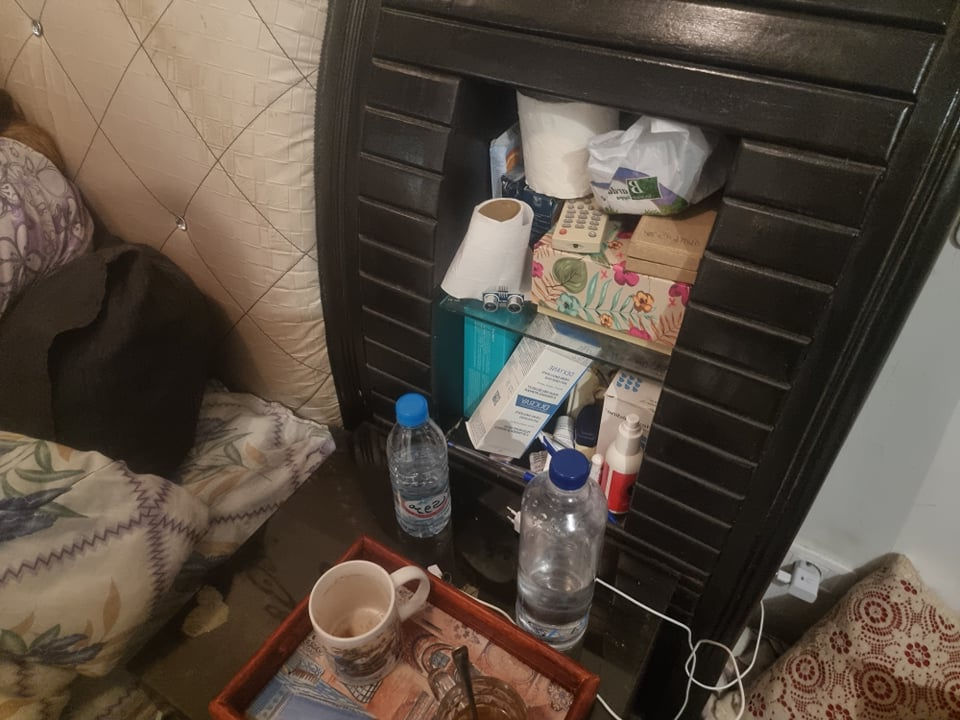SENSOR: (480, 289, 526, 316)
